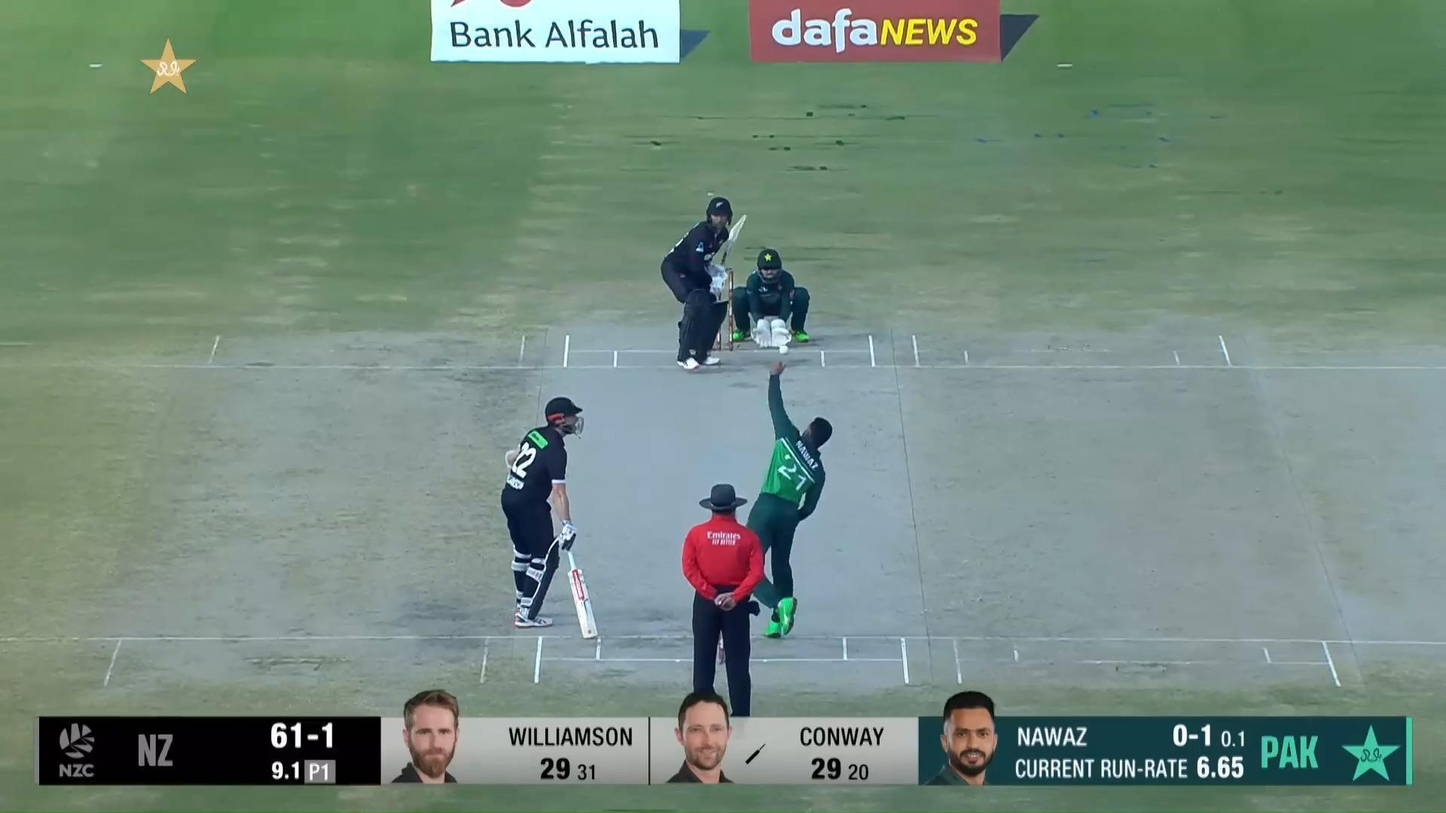BM 1: (661, 197, 749, 370)
BO: (745, 359, 833, 638)
